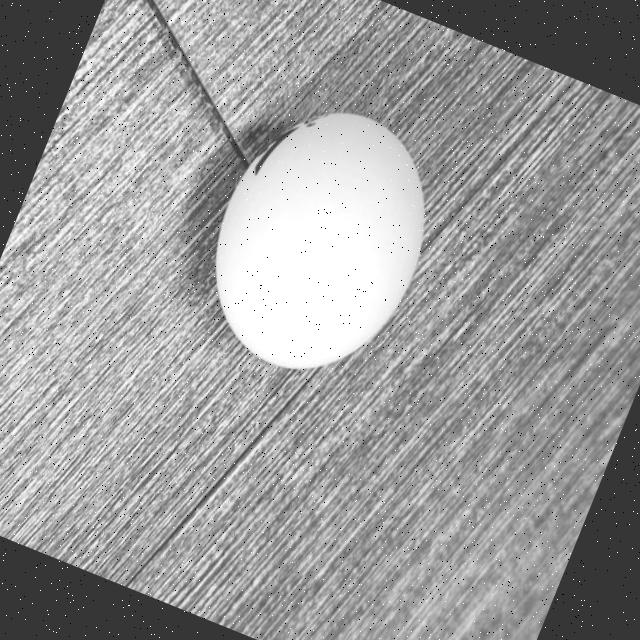ping-pong-ball: (176, 79, 464, 402)
